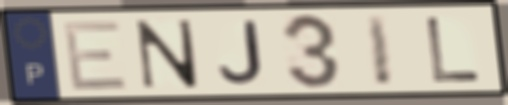3: (278, 11, 343, 92)
E: (59, 17, 132, 93)
I: (362, 12, 397, 89)
J: (215, 18, 267, 87)
L: (423, 15, 485, 85)
N: (134, 17, 202, 91)
